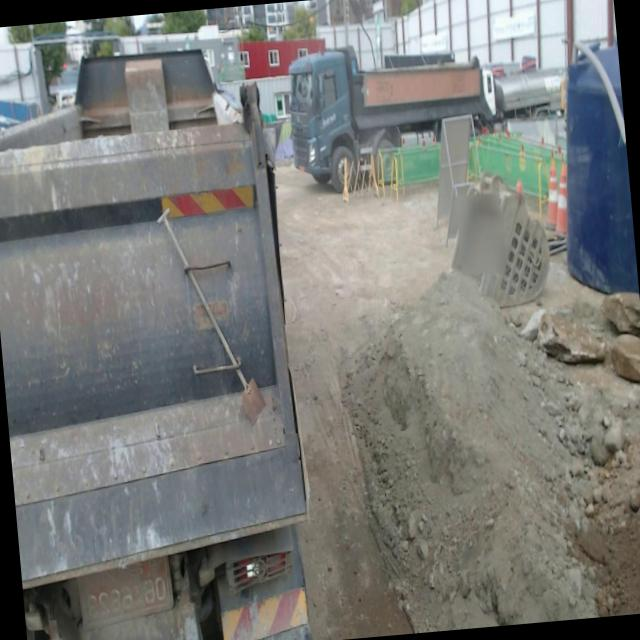red-sand: (277, 166, 640, 640)
rocks: (534, 374, 640, 516)
stone: (537, 309, 610, 364), (600, 292, 640, 337), (610, 334, 640, 382)
